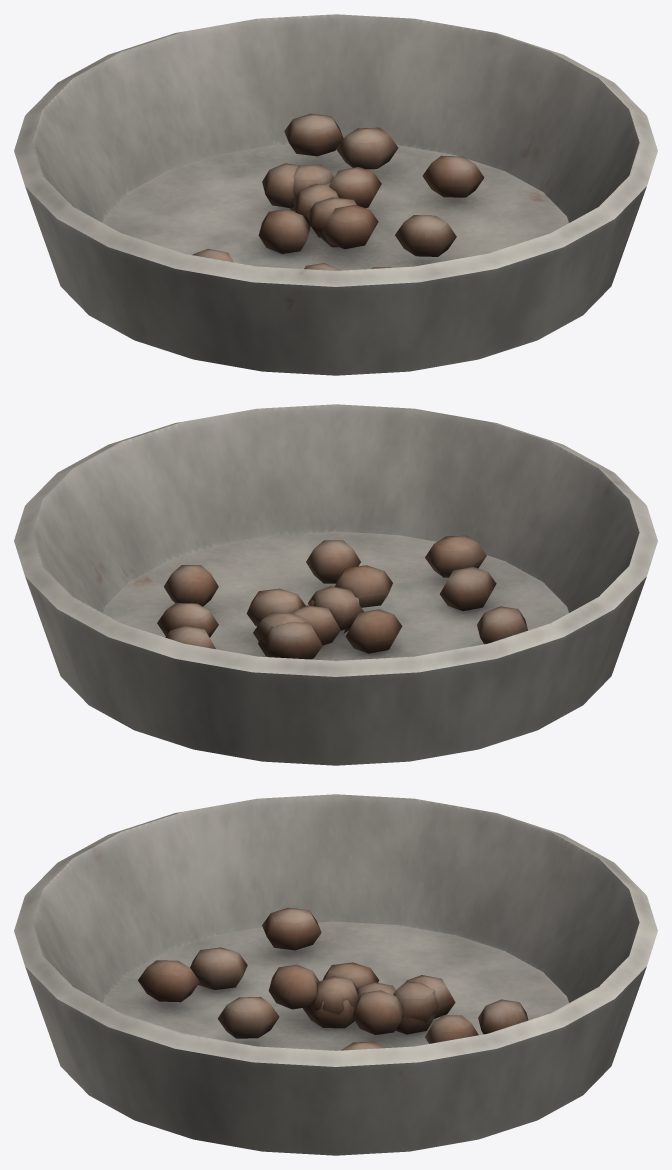
File: dog_bowl.fbx
3 views of the same model, one above another, from view 1: azimuth 30°, elevation 25°; view 2: azimuth 150°, elevation 25°; view 3: azimuth 270°, elevation 25° (orthographic).
Visible parts, largest first — view 1: Body; view 2: Body; view 3: Body.
Boxes of the visible parts, x1=… form: Body: x1=14, y1=14, x2=657, y2=375; Body: x1=14, y1=404, x2=657, y2=765; Body: x1=14, y1=794, x2=657, y2=1155.
Size of the model in its own units: 1.4 by 0.32 by 1.4.
1 material, 1 textured.
